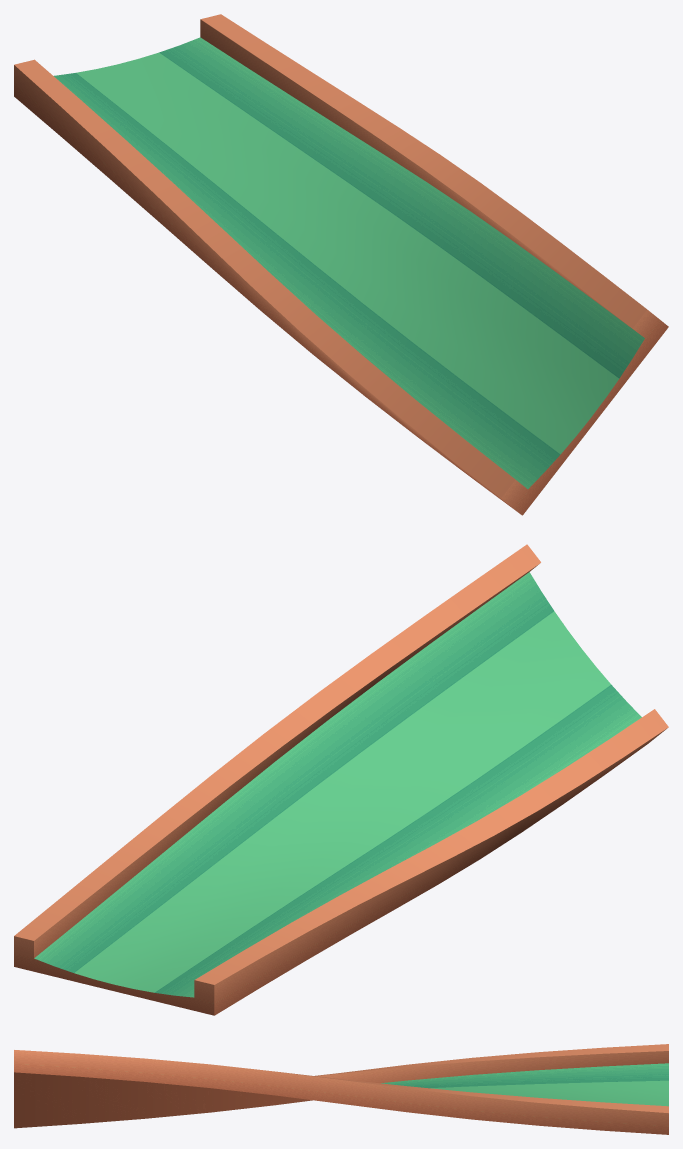
Rendered from spline_concave_straight_skew_right.glb.
3 renders of one model, top to bottom at view 1: azimuth 30°, elevation 25°; view 2: azimuth 150°, elevation 25°; view 3: azimuth 270°, elevation 25°, orthographic. The views are drawn at different scales.
Parts seen in each view (by area): view 1: spline-concave-straight-skew-right; view 2: spline-concave-straight-skew-right; view 3: spline-concave-straight-skew-right.
Part boxes in pixels (x1,y1,x2,y2): spline-concave-straight-skew-right: (14, 14, 668, 515); spline-concave-straight-skew-right: (14, 544, 668, 1015); spline-concave-straight-skew-right: (14, 1044, 668, 1134).
Bounding box in the file's own units: 1.02 × 0.8107 × 4.
Materials: 1 (1 with a texture image).
